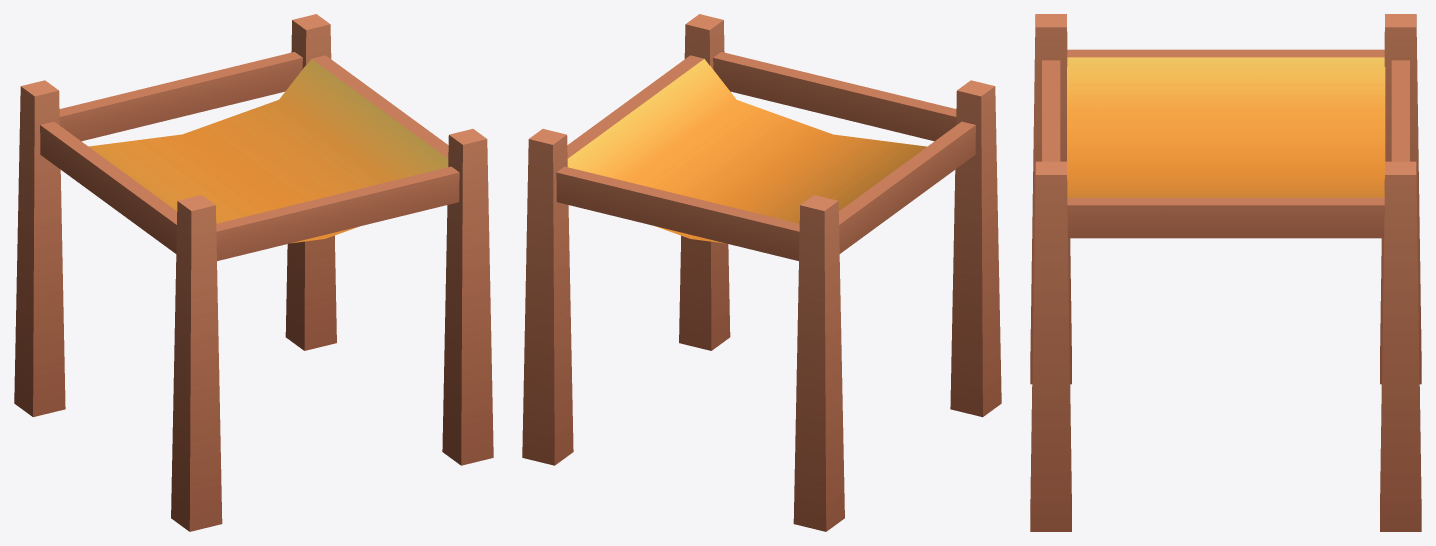
Rendered from Prop_structure-canvas.fbx.
3 views of the same model, side by side, from view 1: azimuth 30°, elevation 25°; view 2: azimuth 150°, elevation 25°; view 3: azimuth 270°, elevation 25° (orthographic). The views are drawn at different scales.
Visible parts, largest first — view 1: Prop_structure-canvas; view 2: Prop_structure-canvas; view 3: Prop_structure-canvas.
Boxes of the visible parts, box(x1,y1,x2,y2) form: Prop_structure-canvas: box(14, 14, 493, 531); Prop_structure-canvas: box(522, 14, 1001, 531); Prop_structure-canvas: box(1030, 14, 1421, 531).
Bounding box in the file's own units: 275 × 275 × 275.
1 material, 1 textured.
